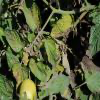Tomato Septoria leaf spot: (50, 13, 73, 40), (22, 0, 42, 31), (12, 58, 28, 91), (3, 28, 24, 52), (43, 35, 57, 68), (29, 56, 48, 80)
